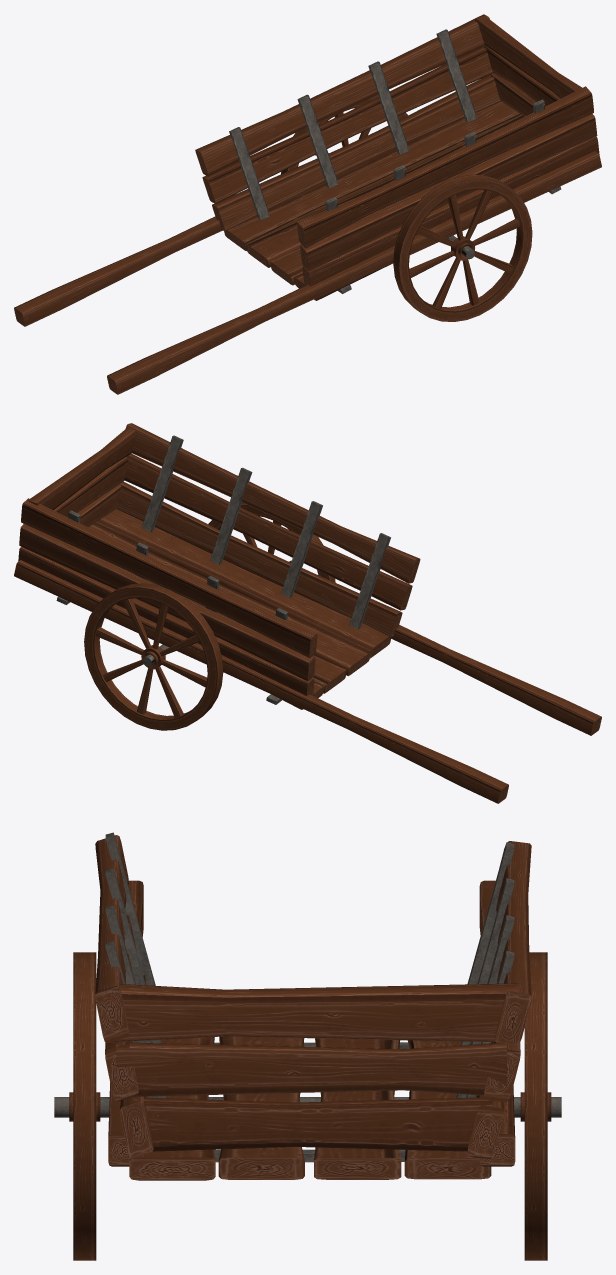
The model's file is SM_Cart.fbx.
3 views of the same model, one above another, from view 1: azimuth 30°, elevation 25°; view 2: azimuth 150°, elevation 25°; view 3: azimuth 270°, elevation 25° (orthographic). The views are drawn at different scales.
Visible parts, largest first — view 1: SM_Cart_LOD0; view 2: SM_Cart_LOD0; view 3: SM_Cart_LOD0.
Part boxes in pixels (x1,y1,x2,y2): SM_Cart_LOD0: (14, 14, 601, 394); SM_Cart_LOD0: (14, 423, 601, 803); SM_Cart_LOD0: (54, 832, 561, 1260).
Bounding box in the file's own units: 787 × 353 × 298.
Materials: 1 (1 with a texture image).
